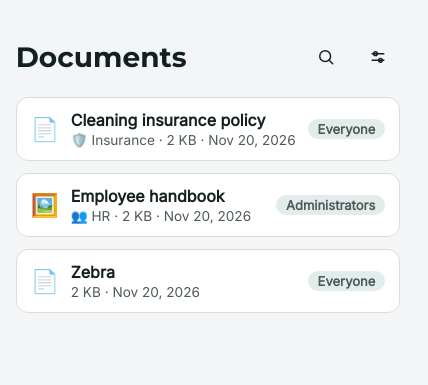
Test case: Documents page › keeps the category chips hidden until they are turned on, and saves the choice
Expected: the text "Zebra" is shown, [71, 262, 115, 282]
Expected: the element "Category" is not shown
Click the button named "View and categories": point(378, 57) [356, 35, 400, 79]
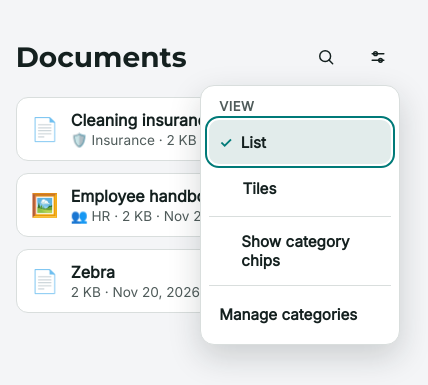
Click the menu item "Show category chips": point(300, 251) [209, 223, 391, 279]
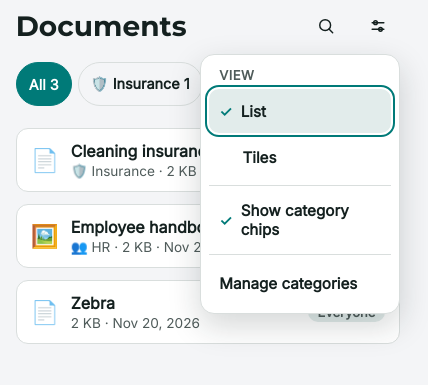
Now the button "👥 HR 1" is shown, box [209, 62, 286, 106]
Click the menu item "Show category chips": point(300, 220) [209, 192, 391, 248]
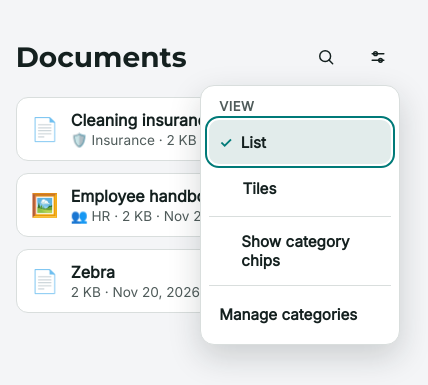
Now the button "HR 1" is gone
